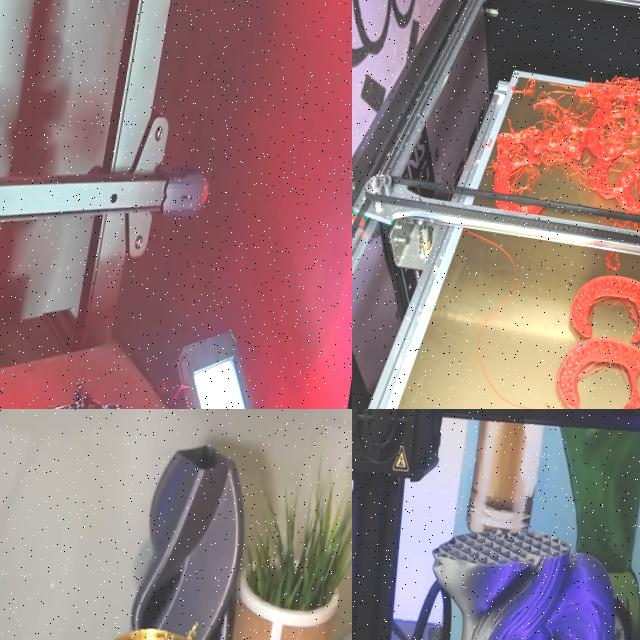spaghetti: (471, 18, 640, 253), (182, 621, 204, 640)
